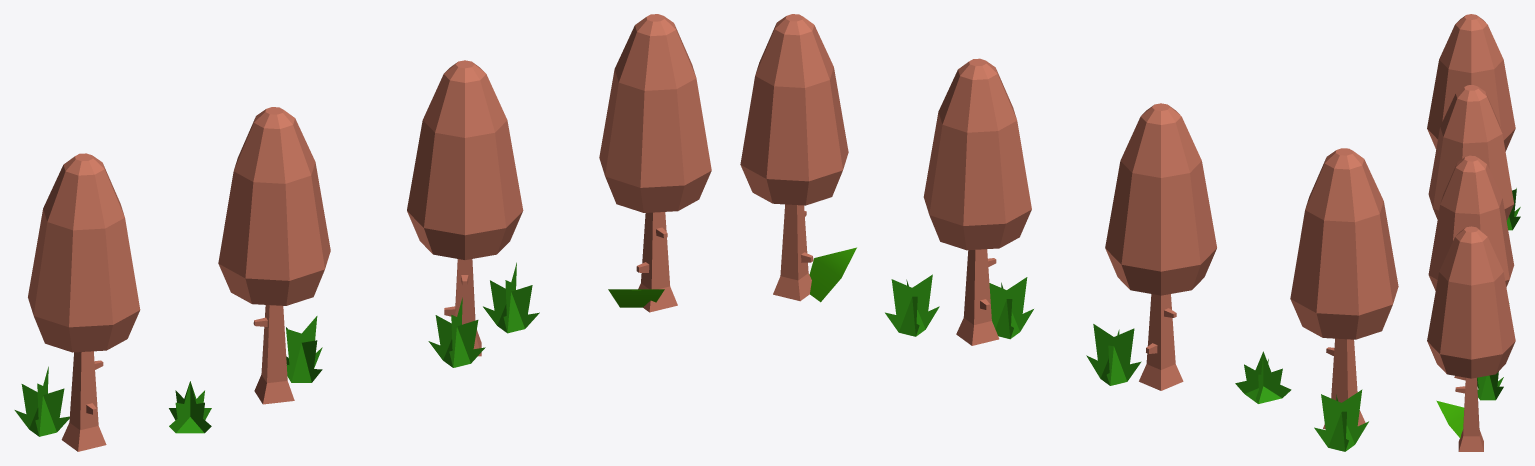
The model's file is ally_1.fbx.
3 renders of one model, left to right at view 1: azimuth 30°, elevation 25°; view 2: azimuth 150°, elevation 25°; view 3: azimuth 270°, elevation 25°, orthographic. The views are drawn at different scales.
Parts seen in each view (by area): view 1: mergedBlocks; view 2: mergedBlocks; view 3: mergedBlocks.
Part boxes in pixels (x1,y1,x2,y2): mergedBlocks: (14,14,711,451); mergedBlocks: (740,14,1398,451); mergedBlocks: (1427,14,1520,451).
Bounding box in the file's own units: 35.3 × 14.3 × 5.61.
